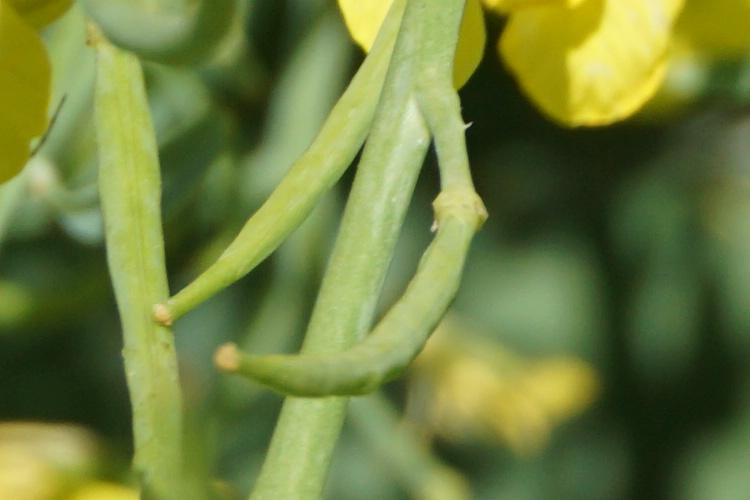pod: (202, 127, 522, 413), (123, 27, 404, 330)
